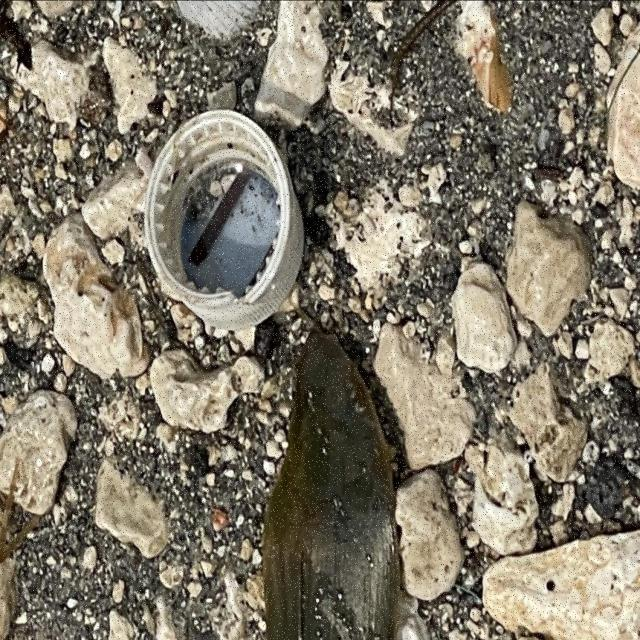plastic_waste: (143, 110, 307, 330)
